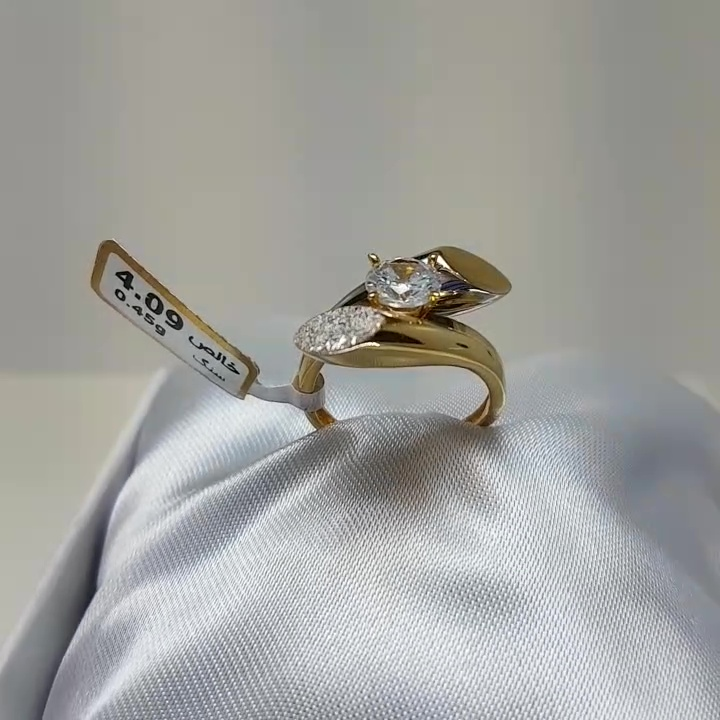Ring 7: (274, 221, 532, 439)
